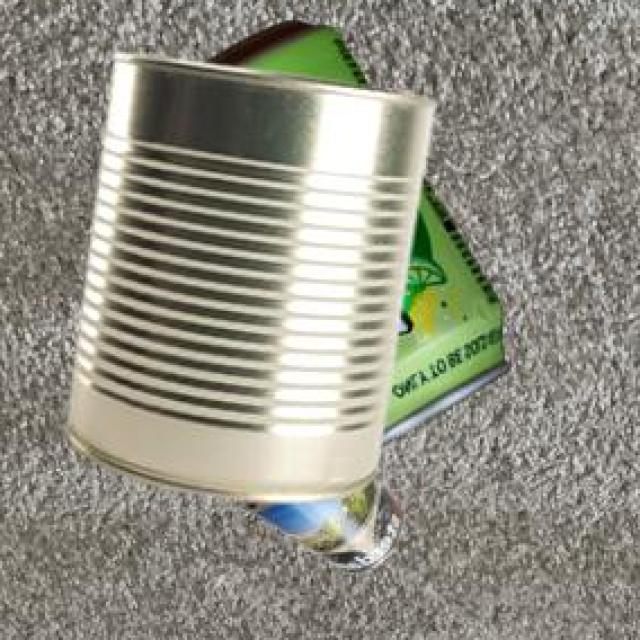logam: (66, 55, 432, 506), (199, 24, 508, 450), (235, 479, 400, 576)
